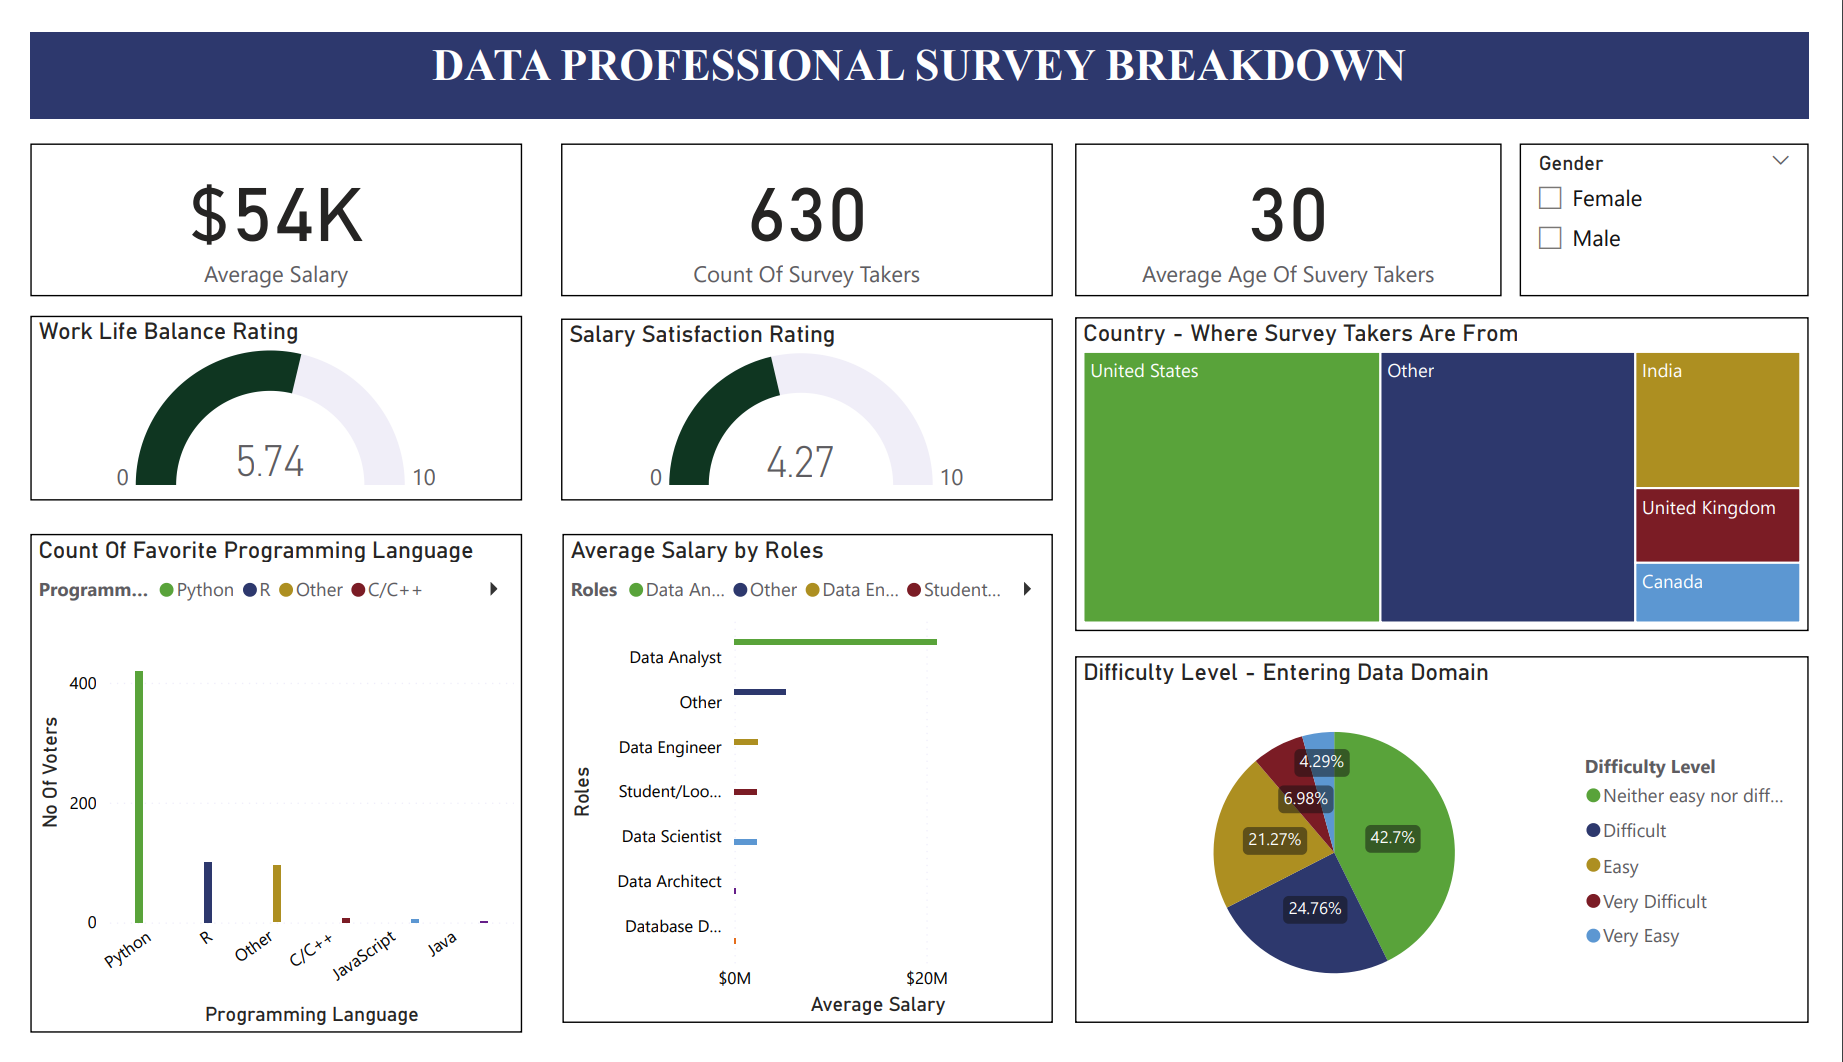

The dashboard page shown, as its layout file describes it:
{"tool":"powerbi","page":{"name":"Page 1","canvas":[1280,720],"ordinal":0},"visuals":[{"type":"card","fields":{"Values":["Avg(Data Professional Survey.Average Salary)"]},"box":[0,80,354.5,109.5],"z":0},{"type":"textbox","box":[0,0,1280.3,62.4],"z":1000},{"type":"card","fields":{"Values":["CountNonNull(Data Professional Survey.Unique ID)"]},"box":[381.5,80,354.5,109.5],"z":2000},{"type":"card","fields":{"Values":["Avg(Data Professional Survey.Q10 - Current Age)"]},"box":[752,80,307.4,109.7],"z":3000},{"type":"gauge","title":"Work Life Balance Rating","fields":{"Y":["Avg(Data Professional Survey.Q6 - How Happy are you in your Current Position with the following? (Work/Life Balance))"],"MinValue":["Min(Data Professional Survey.Q6 - How Happy are you in your Current Position with the following? (Work/Life Balance))"],"MaxValue":["Max(Data Professional Survey.Q6 - How Happy are you in your Current Position with the following? (Work/Life Balance))"]},"box":[0,204.3,354.5,132.9],"z":4000},{"type":"clusteredColumnChart","title":"Count Of Favorite Programming Language","fields":{"Category":["Data Professional Survey.Q5 - Favorite Programming Language.1.1"],"Y":["CountNonNull(Data Professional Survey.Q5 - Favorite Programming Language.1.1)"],"Series":["Data Professional Survey.Q5 - Favorite Programming Language.1.1"]},"box":[0,360.6,354.5,359.4],"z":5000},{"type":"clusteredBarChart","title":"Average Salary by Roles","fields":{"Category":["Data Professional Survey.Q1 - Which Title Best Fits your Current Role?.1"],"Y":["Sum(Data Professional Survey.Average Salary)"],"Series":["Data Professional Survey.Q1 - Which Title Best Fits your Current Role?.1"]},"box":[382.8,360.6,353.2,352],"z":6000},{"type":"pieChart","title":"Difficulty Level - Entering Data Domain","fields":{"Category":["Data Professional Survey.Q7 - How difficult was it for you to break into Data?"],"Y":["CountNonNull(Data Professional Survey.Q7 - How difficult was it for you to break into Data?)"]},"box":[752,449.1,528,264],"z":7000},{"type":"treemap","title":"Country - Where Survey Takers Are From","fields":{"Values":["CountNonNull(Data Professional Survey.Q11 - Which Country do you live in?.1)"],"Group":["Data Professional Survey.Q11 - Which Country do you live in?.1"]},"box":[752,204.6,528,226.3],"z":8000},{"type":"slicer","fields":{"Values":["Data Professional Survey.Q9 - Male/Female?"]},"box":[1072,80,208,109.7],"z":9000},{"type":"gauge","title":"Salary Satisfaction Rating","fields":{"MinValue":["Min(Data Professional Survey.Q6 - How Happy are you in your Current Position with the following? (Salary))"],"Y":["Avg(Data Professional Survey.Q6 - How Happy are you in your Current Position with the following? (Salary))"],"MaxValue":["Max(Data Professional Survey.Q6 - How Happy are you in your Current Position with the following? (Salary))"]},"box":[381.5,205.5,354.5,131.7],"z":10000}]}

Visuals, with their boxes in screenshot pixels (x1, y1, x2, y2), scaled from the page's 1280x720 canvas onto the 1843x1062 screenshot:
card - Avg(Data Professional Survey.Average Salary): box=[0, 118, 510, 280]
textbox: box=[0, 0, 1842, 92]
card - CountNonNull(Data Professional Survey.Unique ID): box=[549, 118, 1060, 280]
card - Avg(Data Professional Survey.Q10 - Current Age): box=[1083, 118, 1525, 280]
"Work Life Balance Rating" gauge: box=[0, 301, 510, 497]
"Count Of Favorite Programming Language" clusteredColumnChart: box=[0, 532, 510, 1061]
"Average Salary by Roles" clusteredBarChart: box=[551, 532, 1060, 1051]
"Difficulty Level - Entering Data Domain" pieChart: box=[1083, 662, 1842, 1052]
"Country - Where Survey Takers Are From" treemap: box=[1083, 302, 1842, 636]
slicer - Data Professional Survey.Q9 - Male/Female?: box=[1544, 118, 1842, 280]
"Salary Satisfaction Rating" gauge: box=[549, 303, 1060, 497]
